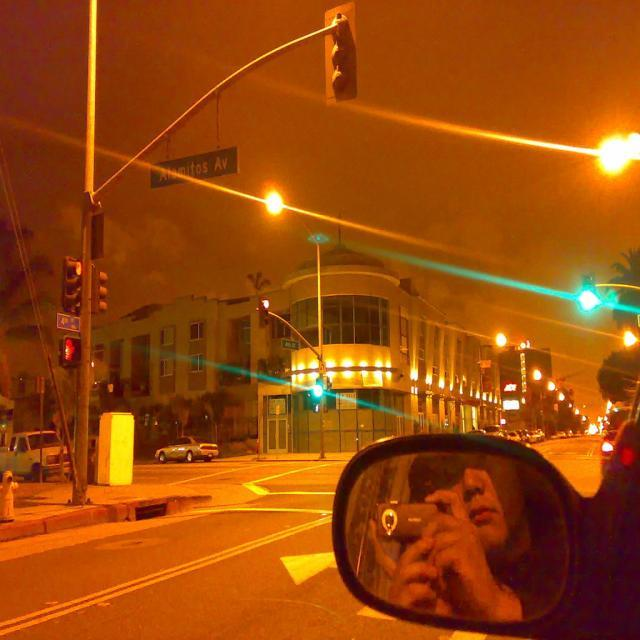traffic light: (324, 10, 356, 99), (61, 258, 82, 314)
